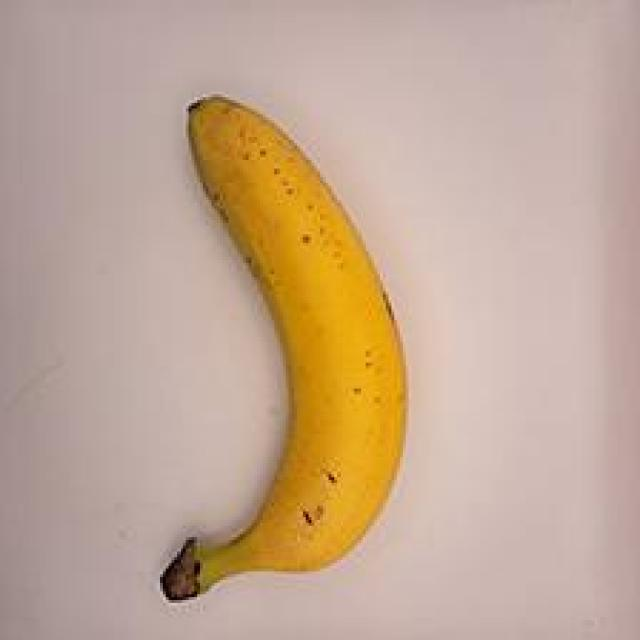Ripe: (117, 64, 416, 609)
